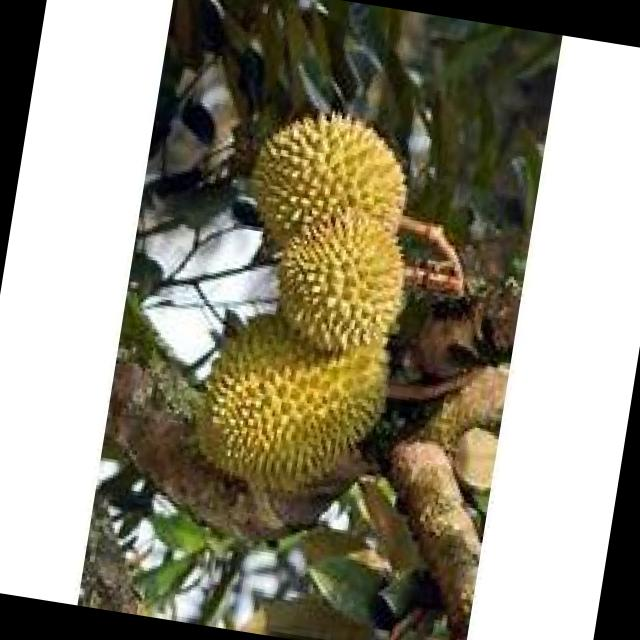fruit: (196, 76, 464, 382), (158, 277, 425, 534)
